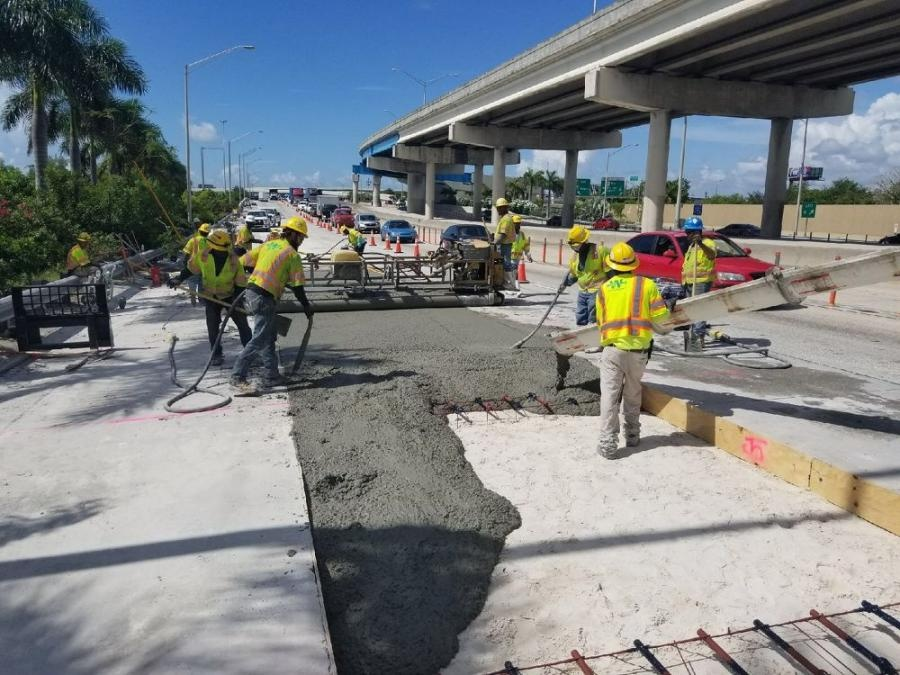blue: (681, 214, 704, 242)
white: (243, 213, 255, 227)
yellow: (605, 243, 640, 277), (283, 216, 308, 248), (207, 230, 231, 256), (567, 226, 590, 251), (75, 232, 90, 248), (494, 197, 508, 214), (511, 215, 522, 232), (198, 223, 211, 237), (340, 224, 348, 234)
